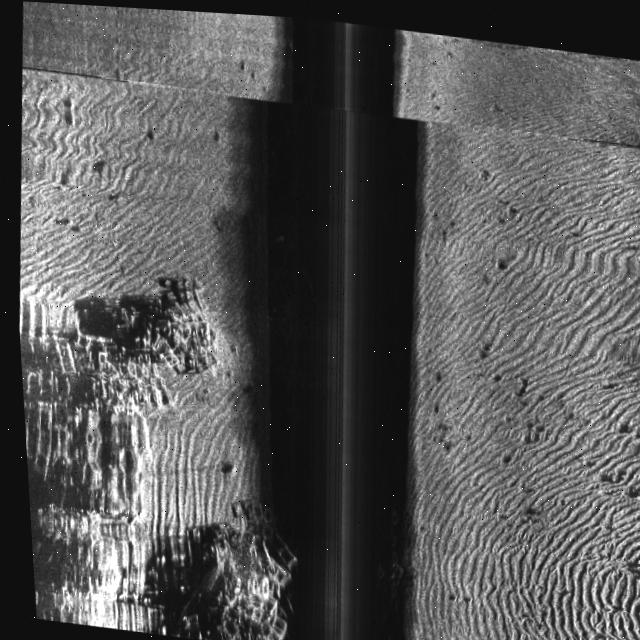artificial reef: (75, 248, 233, 438), (166, 473, 300, 640), (358, 492, 406, 606)
